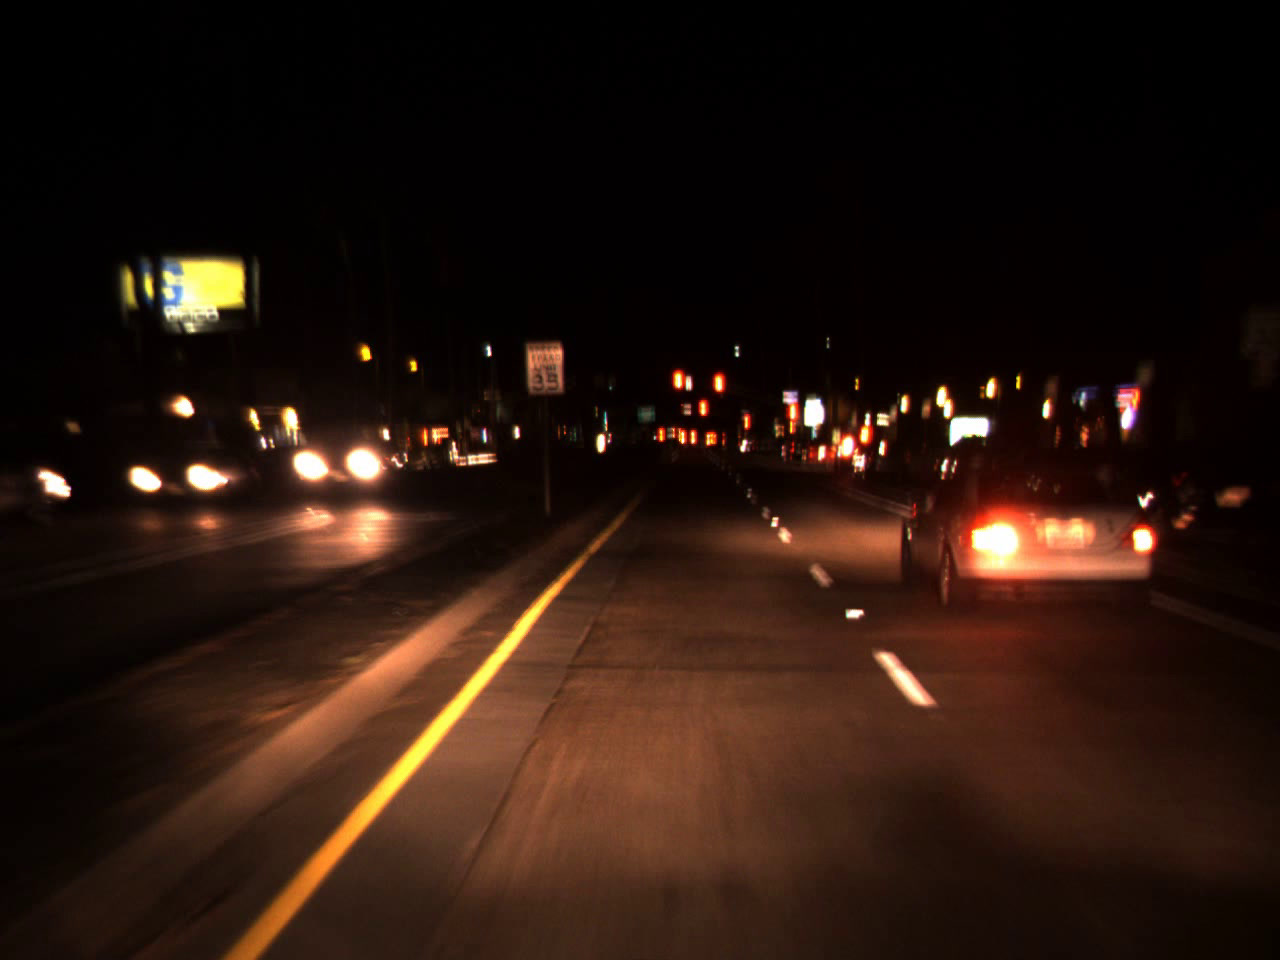stop: (669, 365, 688, 413), (711, 369, 726, 417), (696, 396, 709, 439), (743, 413, 749, 445), (786, 402, 792, 431)
